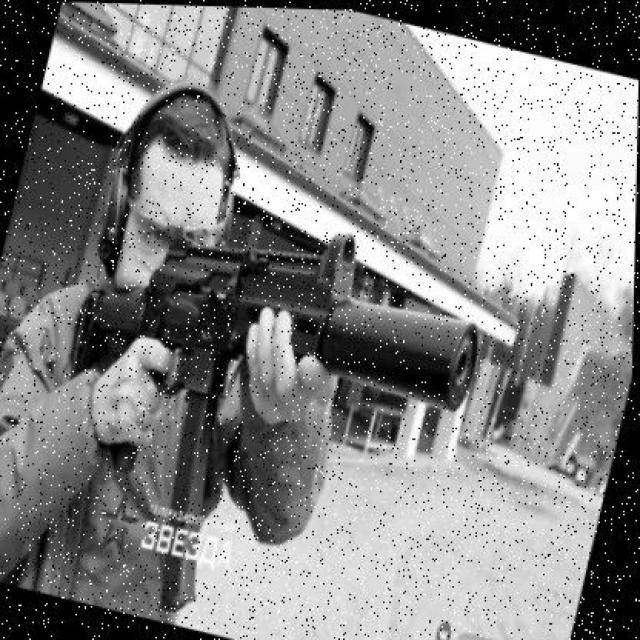weapon: (63, 231, 483, 615)
